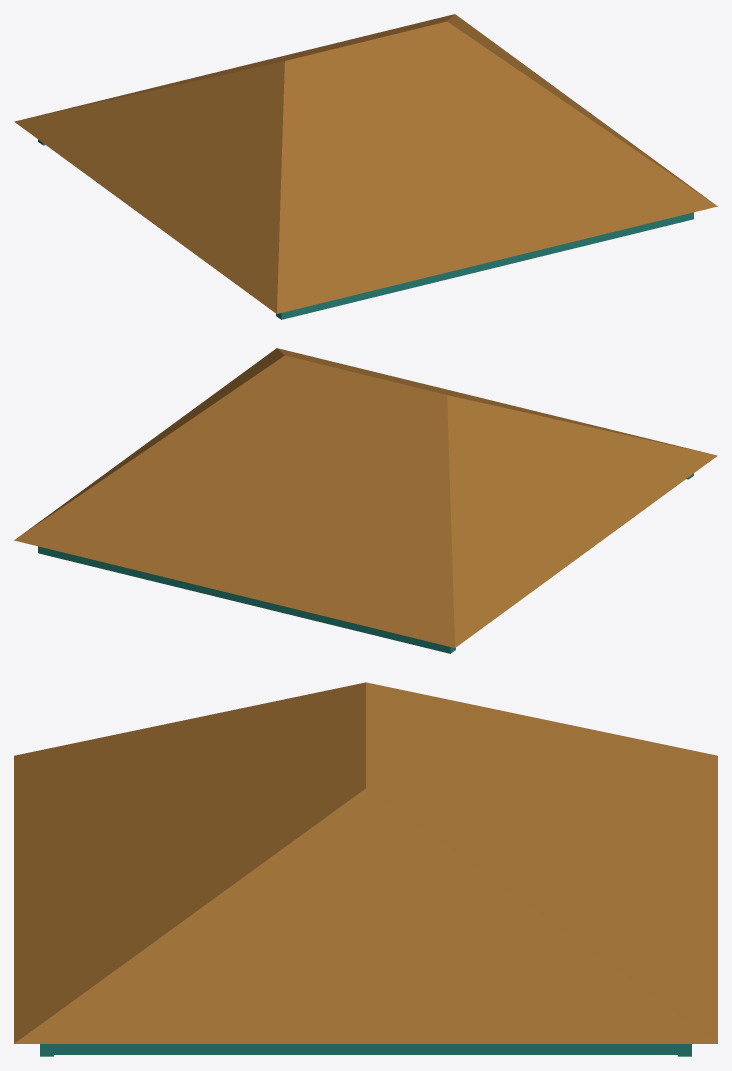
File: Tropical_PavilionRoof_Standard.glb
3 renders of one model, top to bottom at view 1: azimuth 30°, elevation 25°; view 2: azimuth 150°, elevation 25°; view 3: azimuth 270°, elevation 25°, orthographic. The views are drawn at different scales.
Parts seen in each view (by area): view 1: Tropical_PavilionRoof_Standard; view 2: Tropical_PavilionRoof_Standard; view 3: Tropical_PavilionRoof_Standard.
Boxes of the visible parts, box(x1,y1,x2,y2) form: Tropical_PavilionRoof_Standard: box(14, 14, 717, 319); Tropical_PavilionRoof_Standard: box(14, 348, 717, 653); Tropical_PavilionRoof_Standard: box(14, 682, 717, 1056).
Size of the model in its own units: 6.2 by 1.87 by 6.4.
